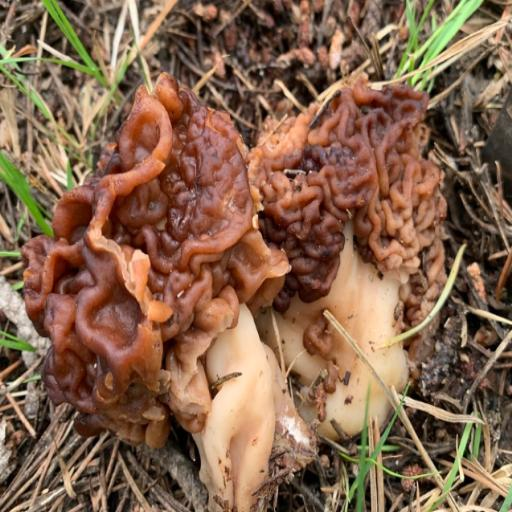mushroom: (38, 78, 450, 465)
